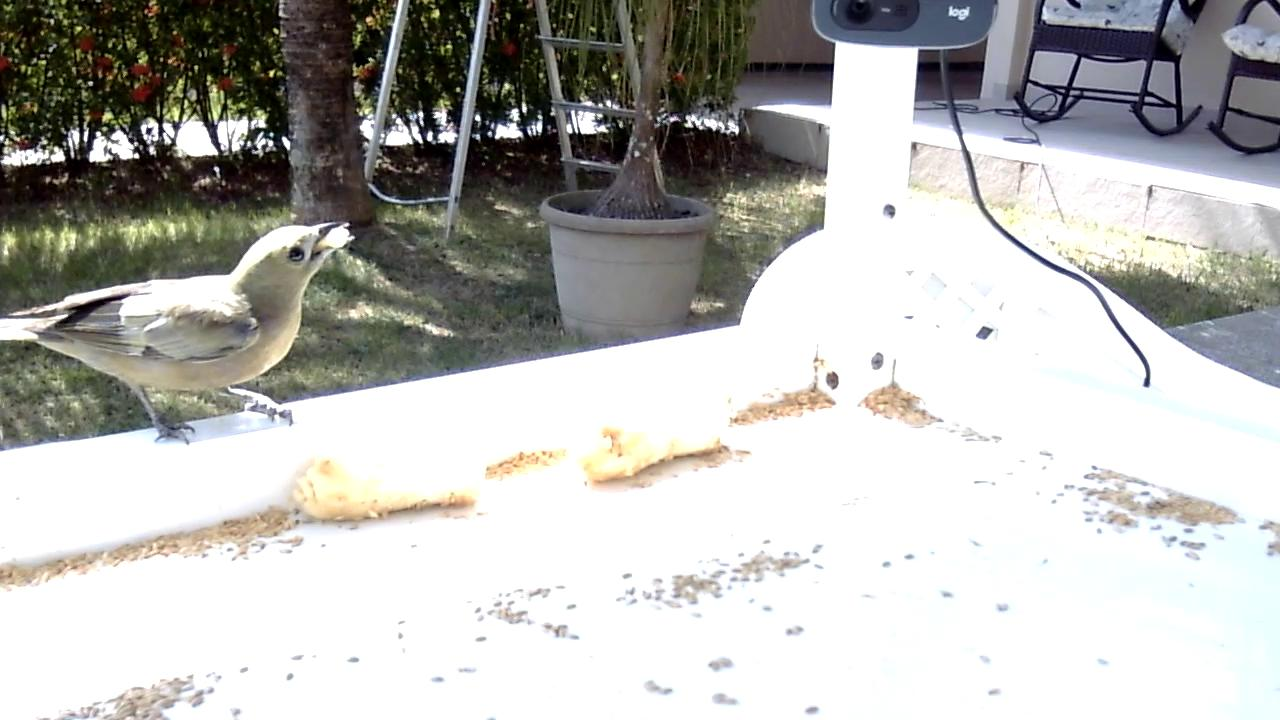sanhaco_do_coqueiro: (1, 219, 357, 452)
